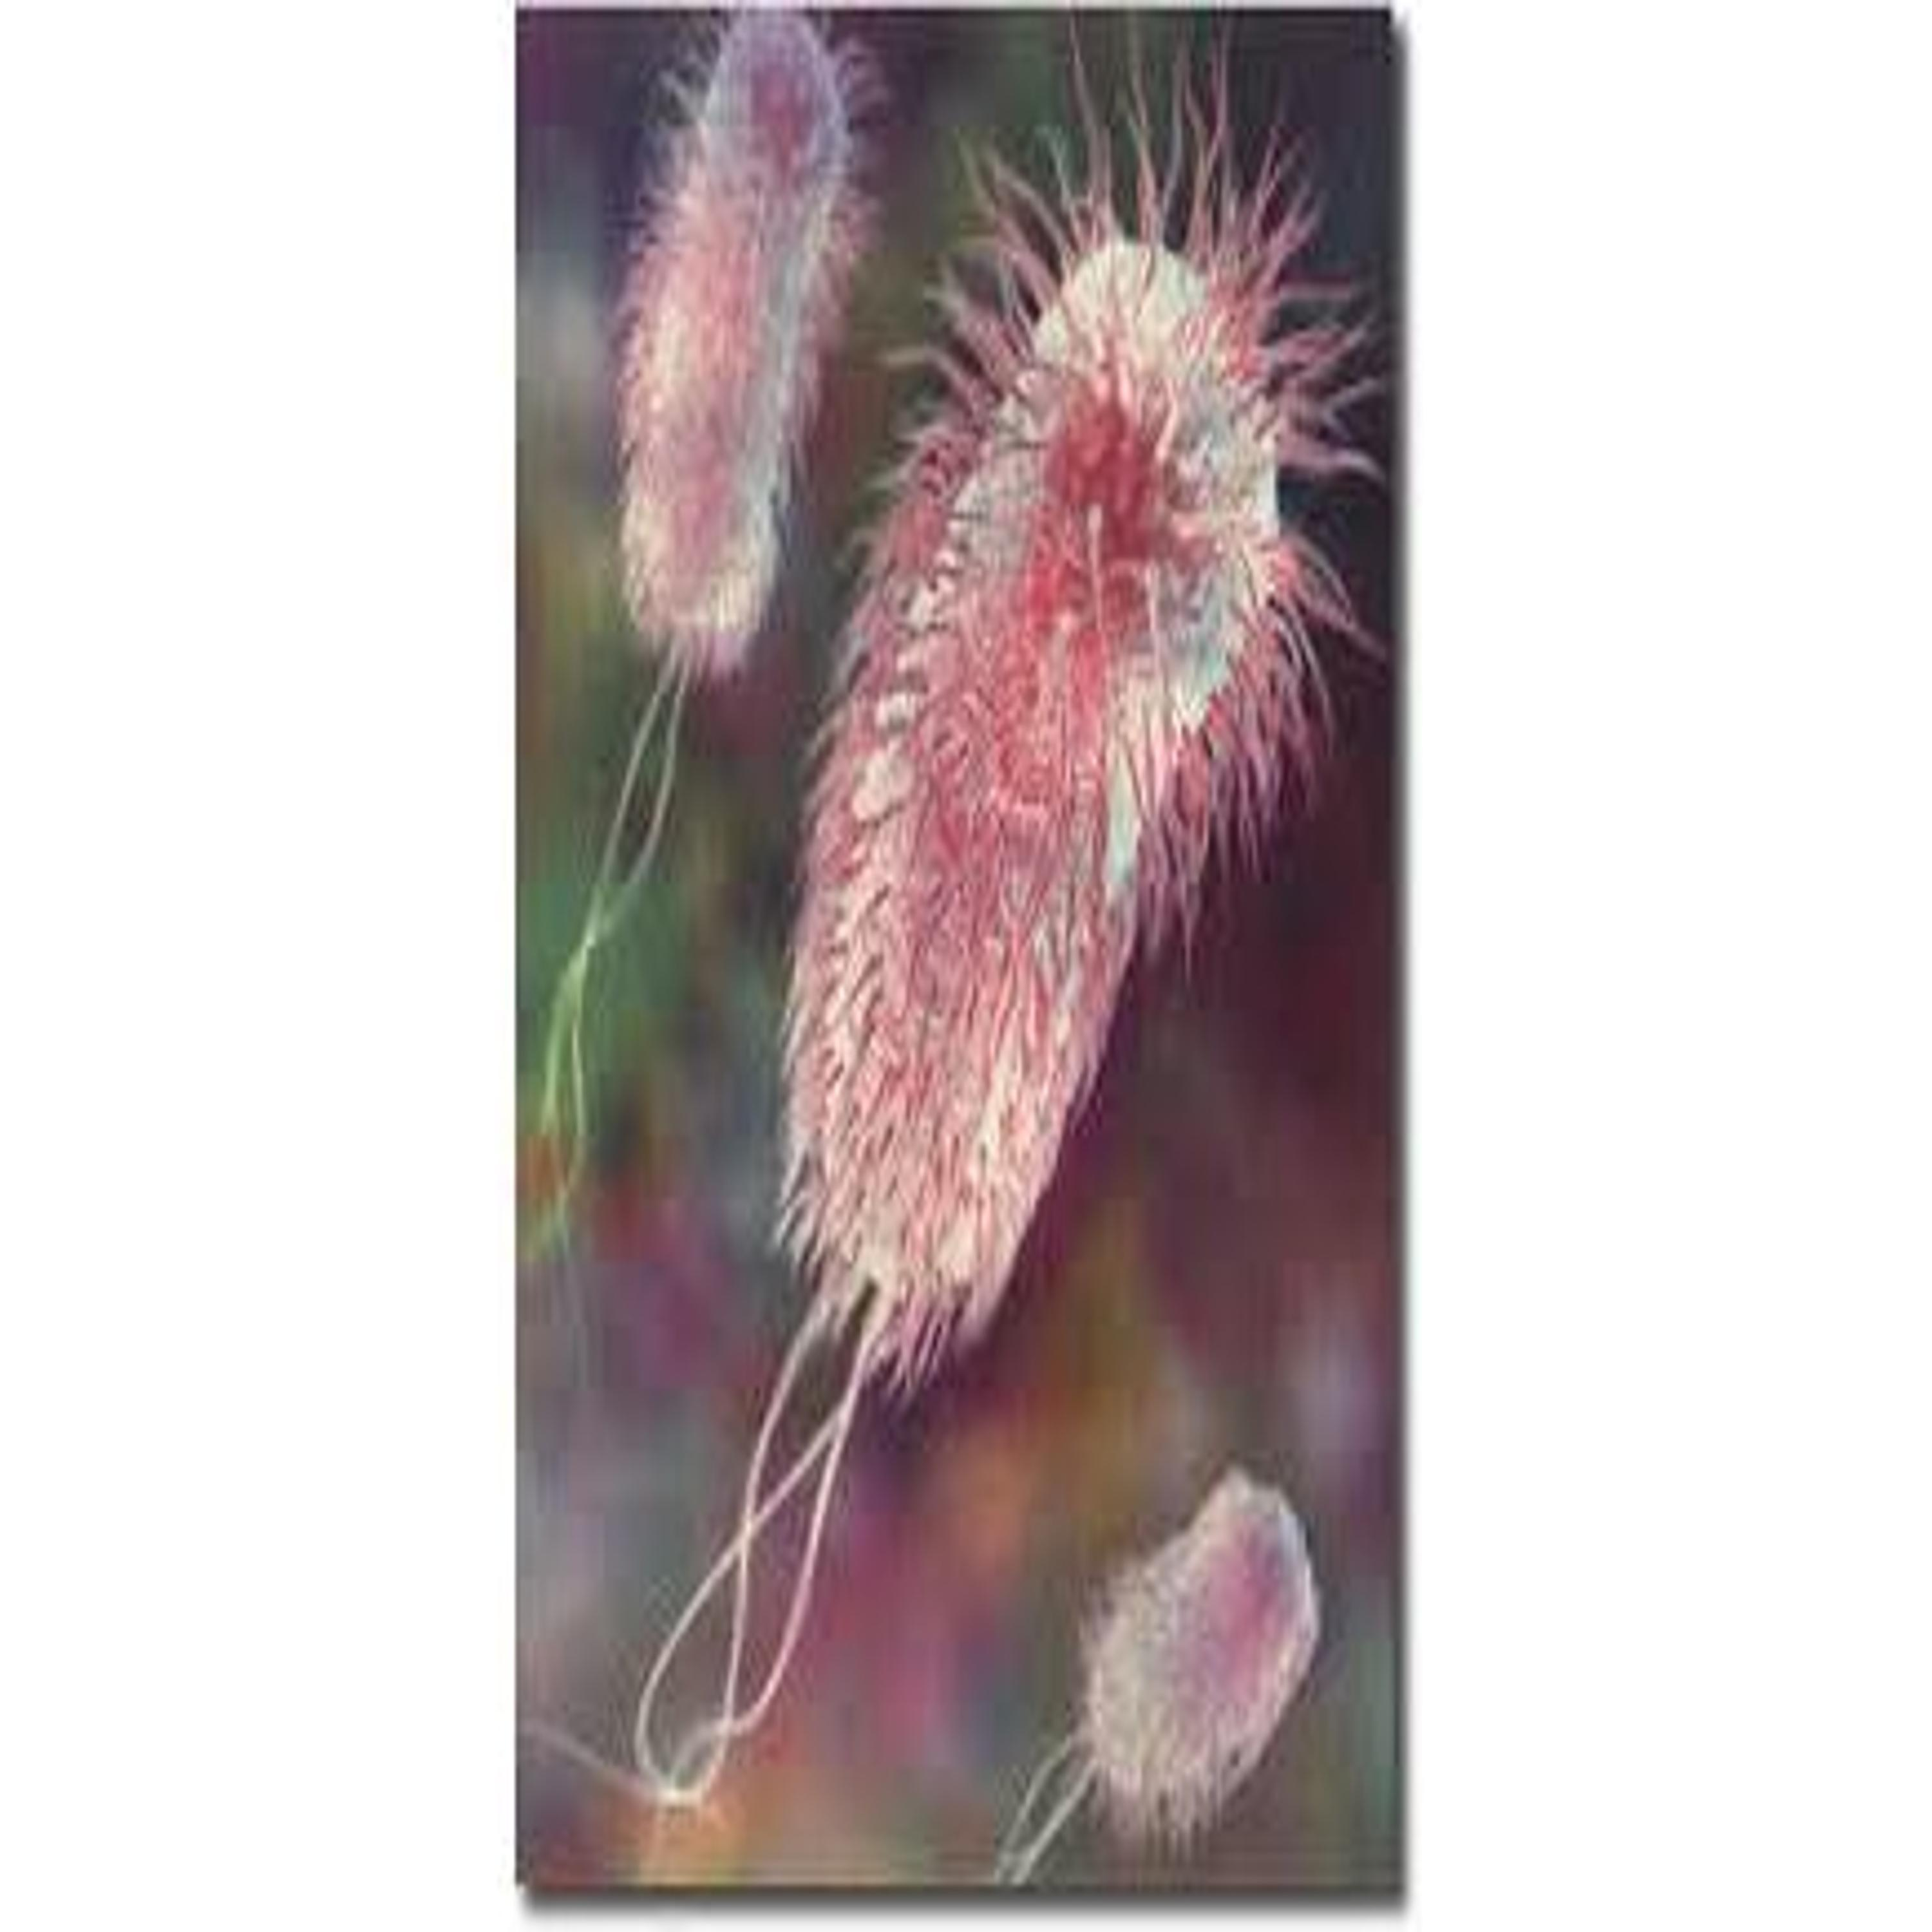e.coli5: (541, 11, 1398, 1799), (515, 14, 901, 1277), (993, 1442, 1327, 1881)
